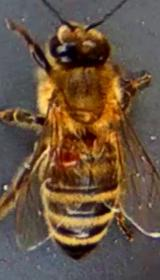varroa_mite: (53, 146, 86, 166)
